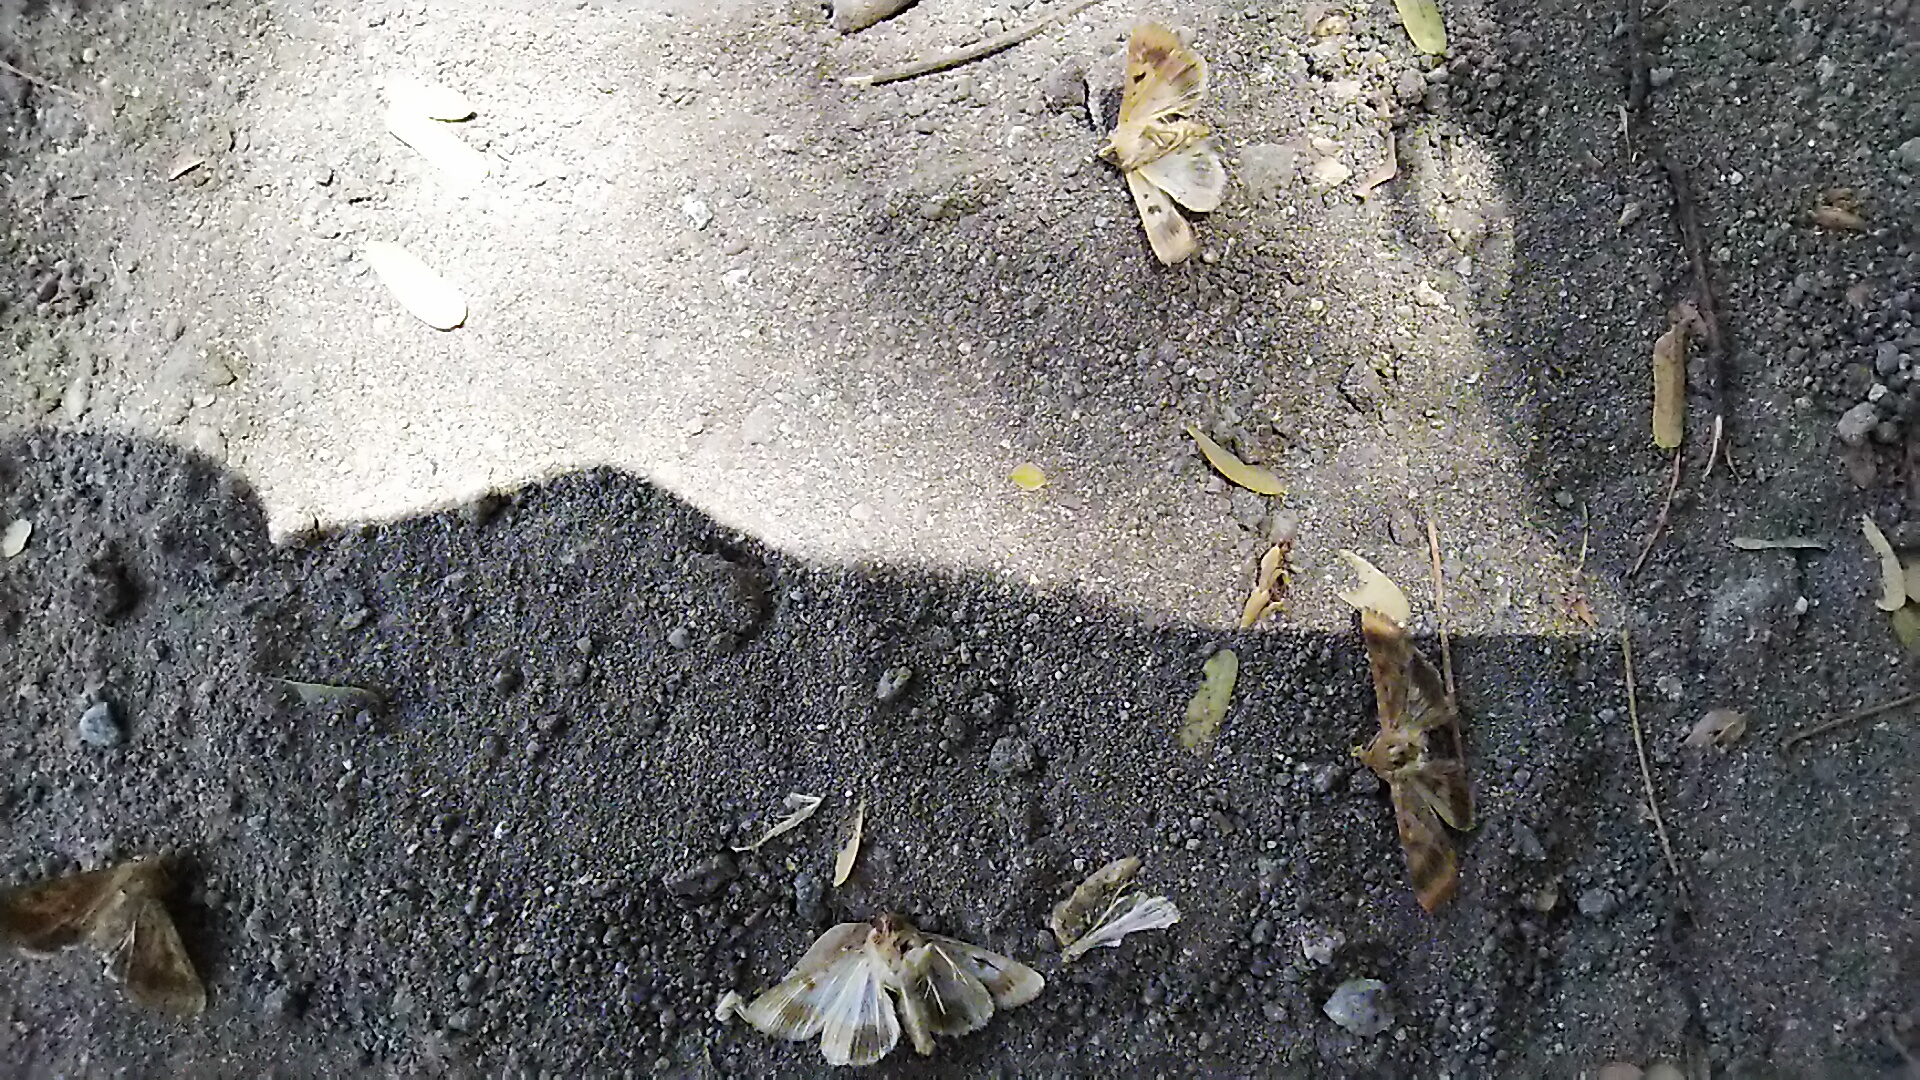INS-C: (745, 886, 1048, 1065), (1323, 589, 1484, 920), (1, 847, 218, 1044), (1087, 13, 1233, 265)
